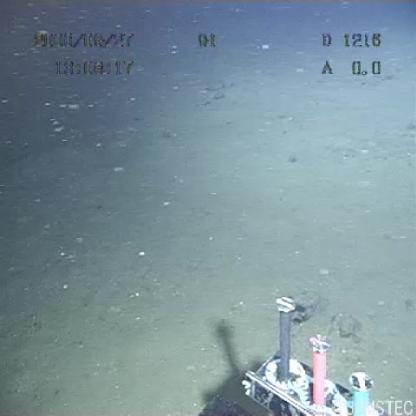Rov: (194, 289, 387, 416)
